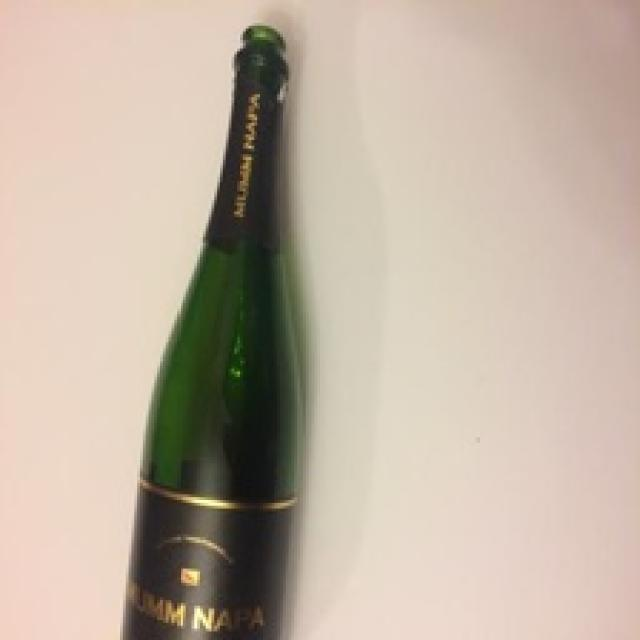Glass: (120, 24, 296, 640)
